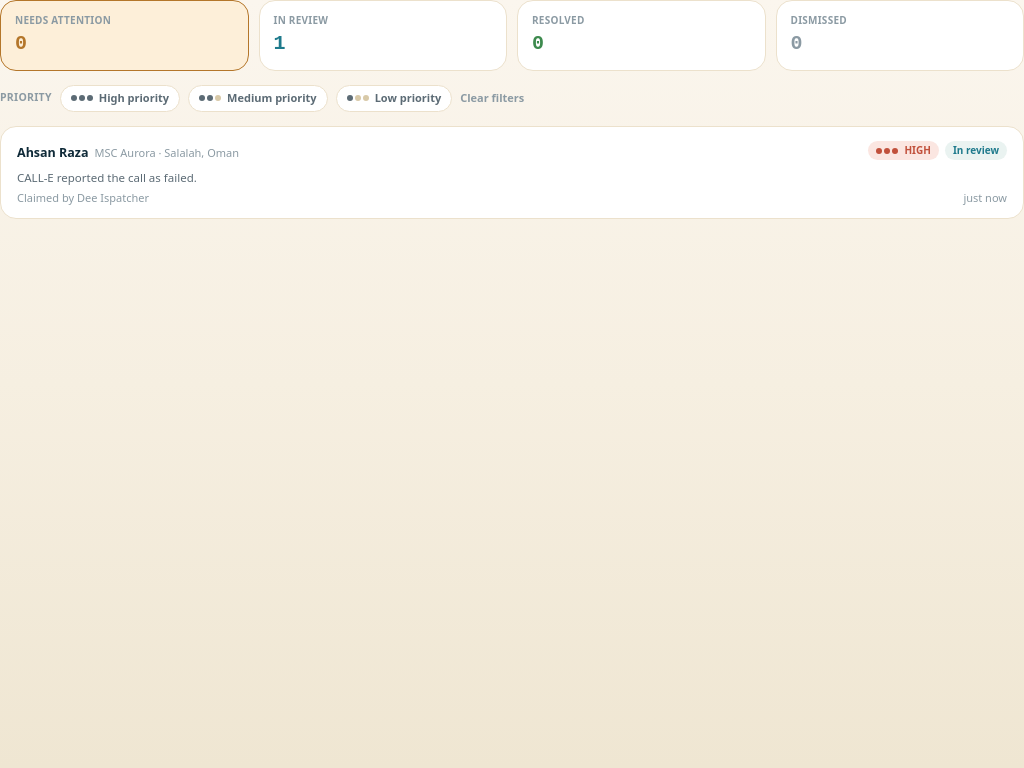
Test: YellowZonePage — resolve › resolves and closes the modal on success
The image size is (1024, 768).
Click the text "Ahsan Raza" at (53, 152), box [17, 144, 88, 160]
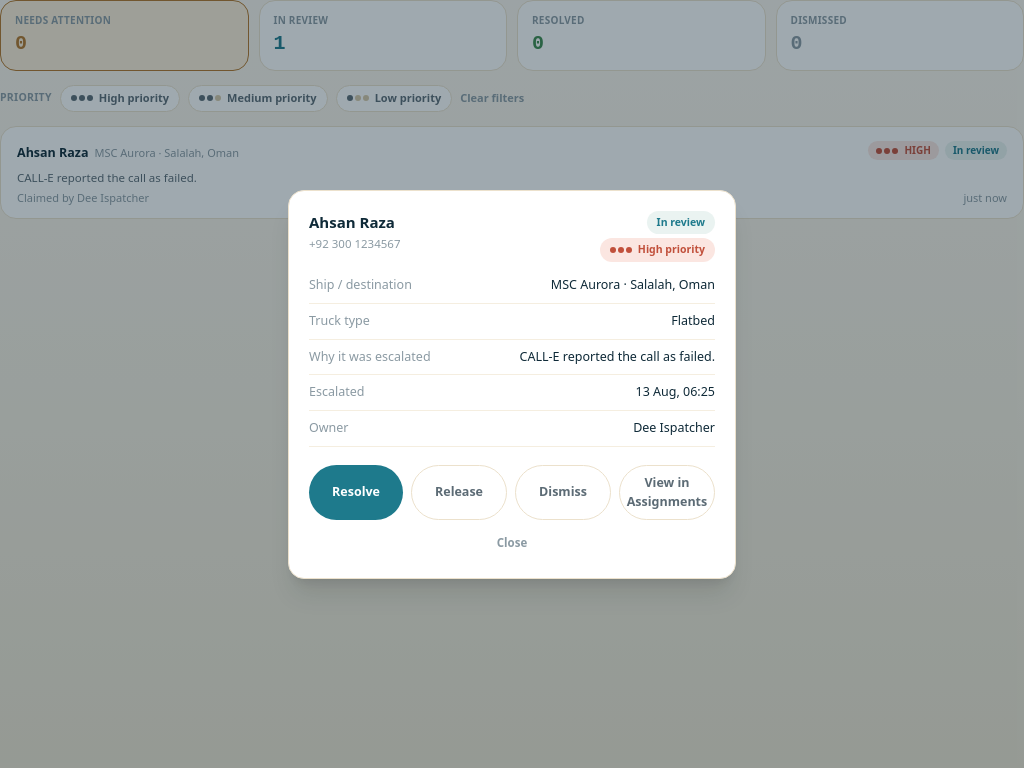
Click the button "Resolve" at (356, 493), box [309, 465, 403, 520]
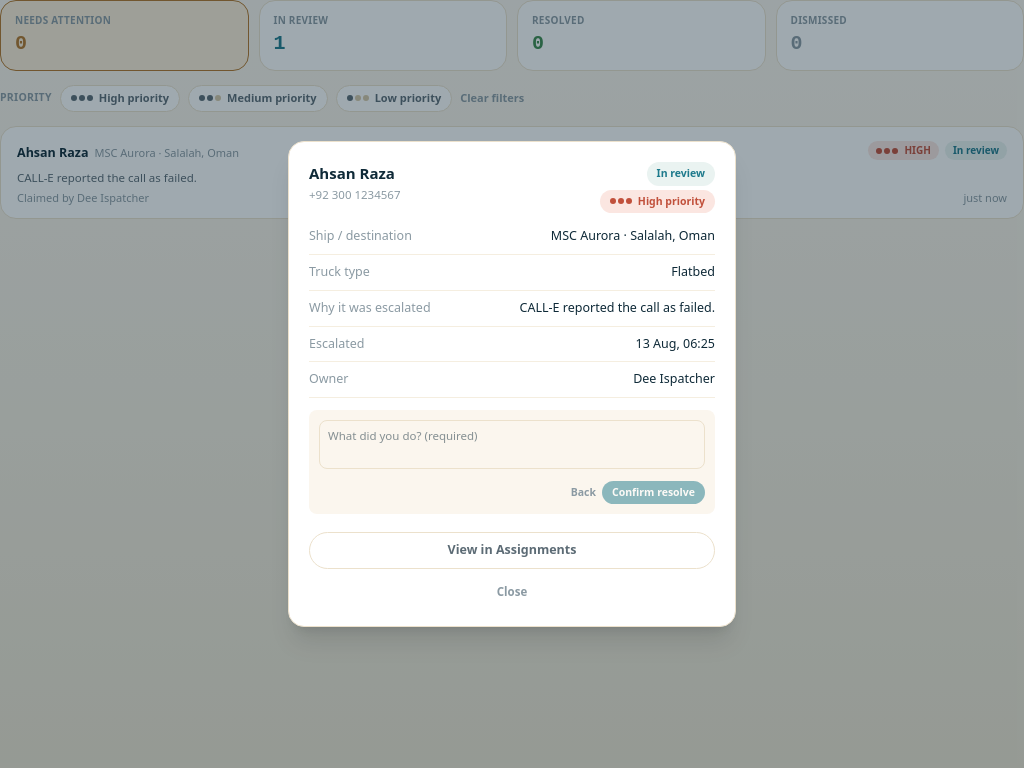
Type "Called the driver directly." into the text box with placeholder "What did you do? (required)" at (512, 444), box [319, 420, 705, 468]
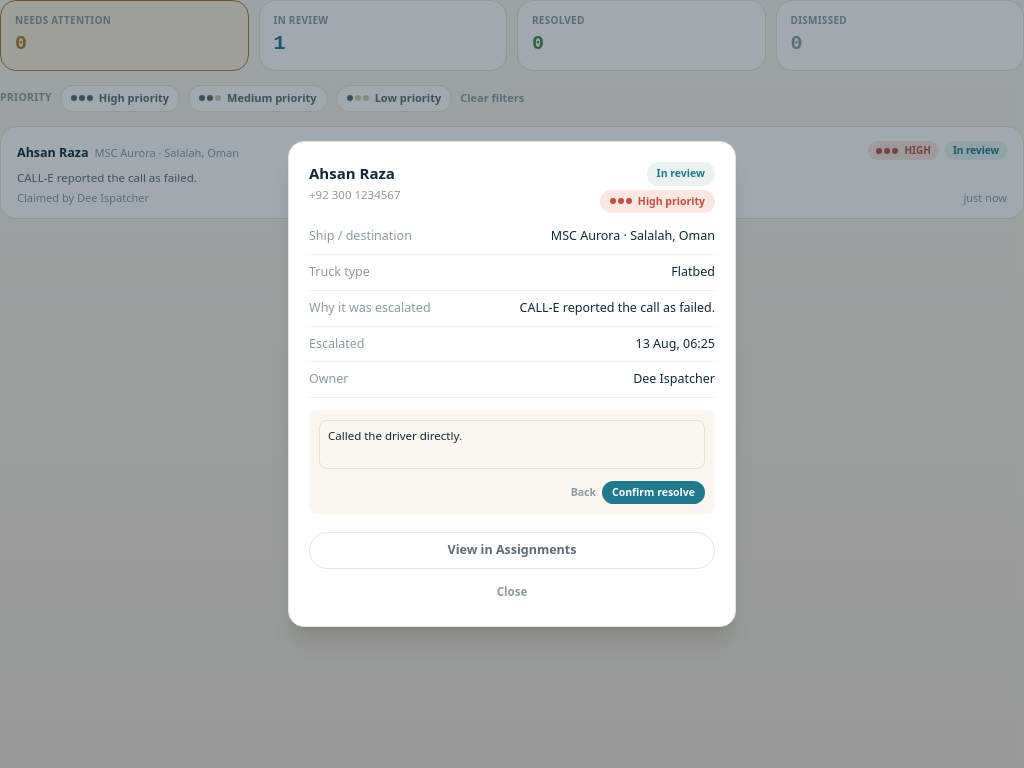
Click the button "Confirm resolve" at (654, 492), box [602, 480, 705, 504]
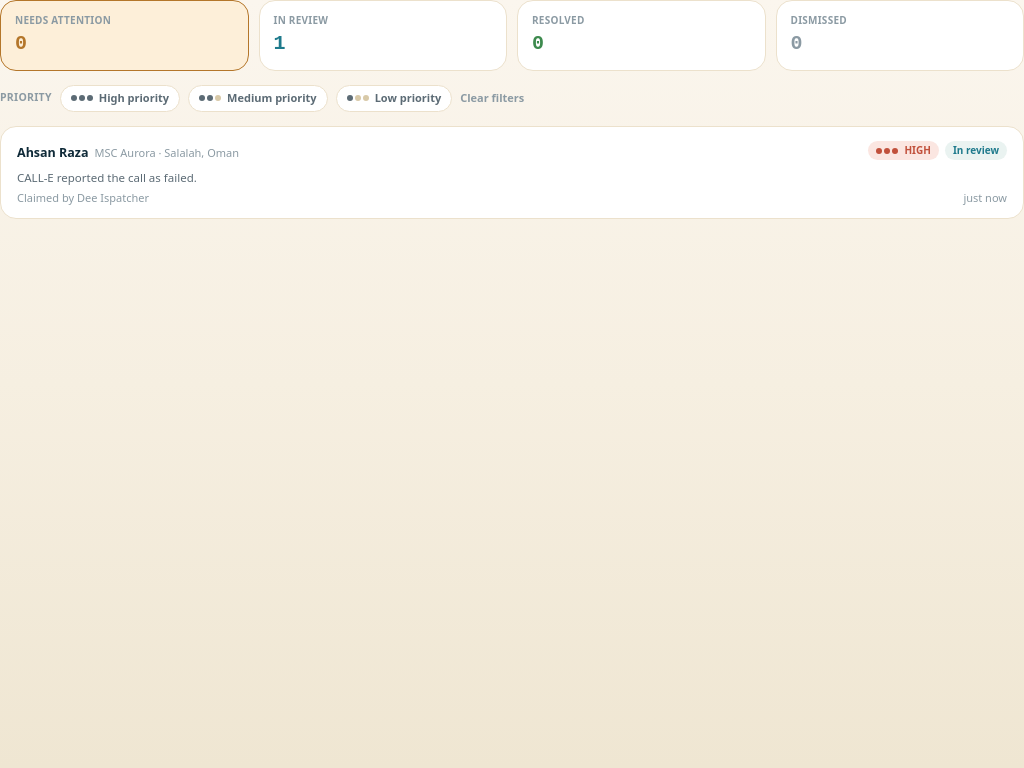
Now the button "Confirm resolve" is gone
